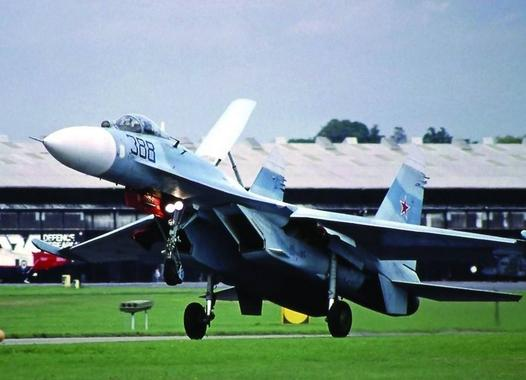airplane: (27, 95, 526, 342)
